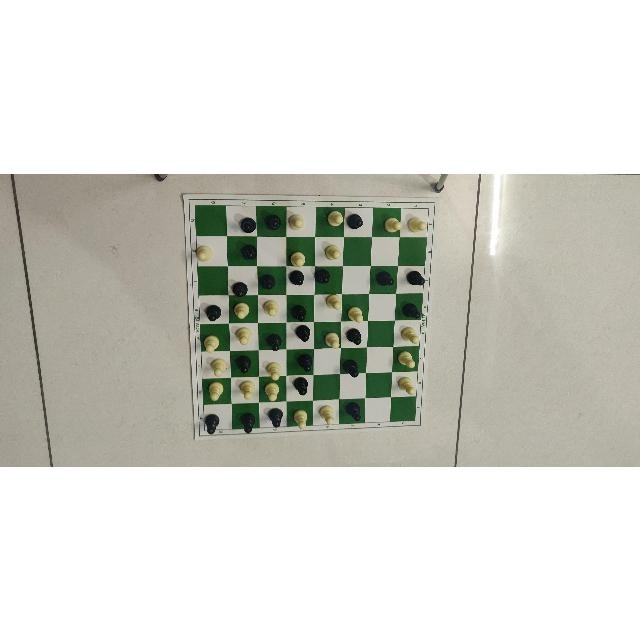black-pawn: (340, 399, 370, 423), (396, 297, 427, 319), (199, 409, 223, 435), (286, 301, 314, 323), (401, 268, 429, 288), (201, 301, 225, 324), (262, 328, 285, 352), (340, 356, 364, 379), (292, 350, 316, 372), (345, 324, 367, 348), (234, 212, 259, 233), (264, 404, 285, 429), (289, 374, 311, 397), (235, 243, 263, 261), (236, 411, 257, 434), (231, 354, 255, 373), (263, 211, 283, 233), (347, 209, 367, 231), (227, 279, 250, 298), (290, 324, 314, 342), (312, 267, 336, 285), (257, 272, 281, 289), (373, 270, 395, 288), (286, 268, 306, 286)
white-pawn: (190, 240, 218, 266), (380, 211, 404, 234), (396, 324, 424, 343), (321, 290, 344, 313), (395, 376, 421, 396), (320, 328, 342, 351), (407, 212, 431, 233), (204, 358, 229, 378), (394, 348, 420, 367), (323, 209, 345, 231), (263, 357, 283, 381), (205, 380, 227, 401), (235, 379, 256, 401), (320, 241, 342, 262), (286, 248, 310, 267), (343, 303, 367, 322), (291, 408, 310, 432), (317, 404, 336, 428), (232, 325, 252, 346), (198, 333, 220, 352), (261, 297, 281, 316), (287, 211, 308, 229), (232, 301, 252, 319), (264, 382, 282, 400)
